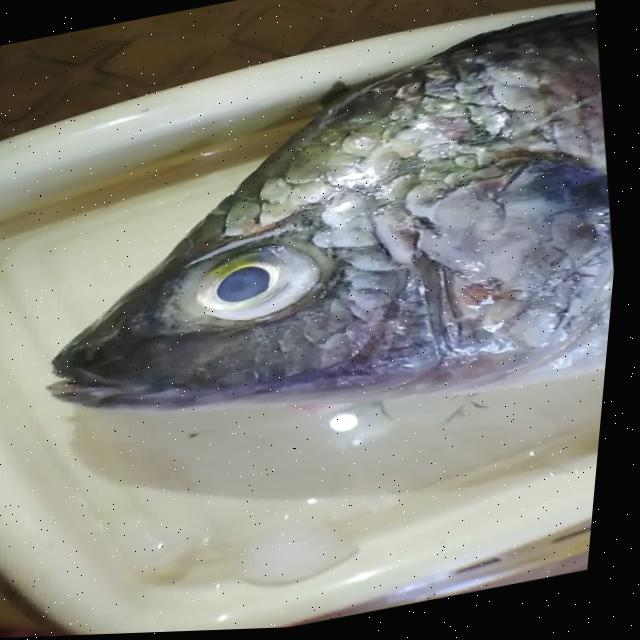Fresh: (167, 213, 391, 354)
